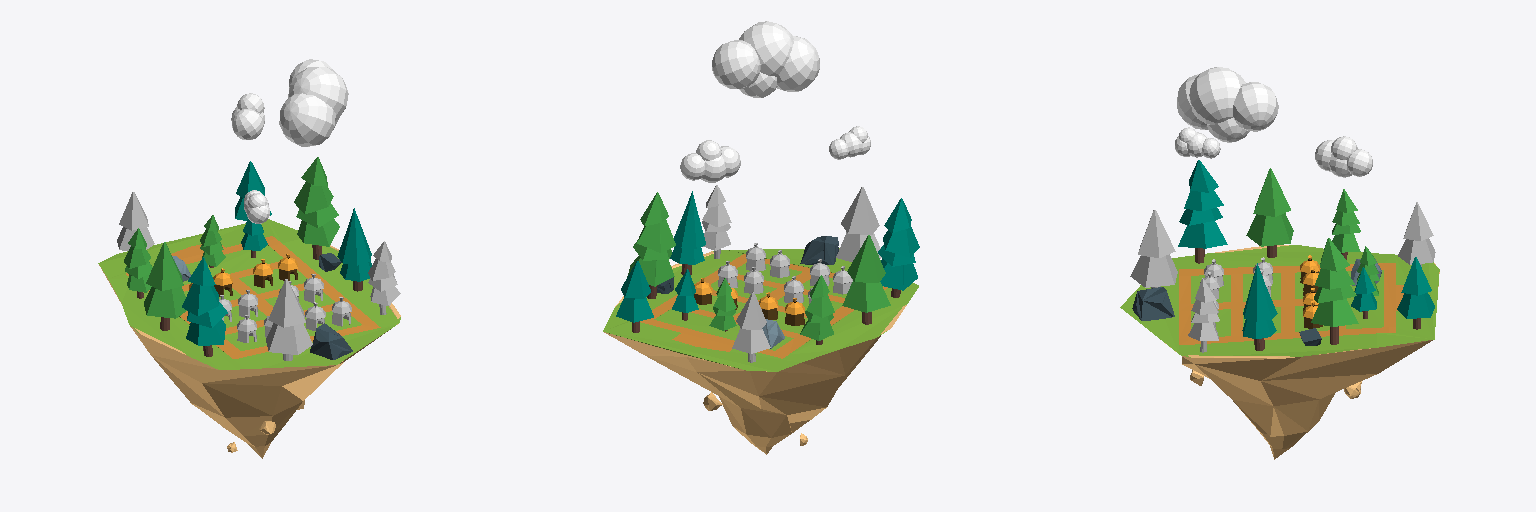
The model's file is floating_island.obj.
3 views of the same model, side by side, from view 1: azimuth 30°, elevation 25°; view 2: azimuth 150°, elevation 25°; view 3: azimuth 270°, elevation 25° (orthographic).
Visible parts, largest first — view 1: group[number redacted], group[number redacted], group[number redacted], group[number redacted], group[number redacted].002, group[number redacted], group[number redacted], group[number redacted].001, group[number redacted], group[number redacted], group[number redacted].001, group[number redacted] (+4 smaller); view 2: group[number redacted], group[number redacted], group[number redacted], group[number redacted], group[number redacted], group[number redacted], group[number redacted].002, group[number redacted], group[number redacted], group[number redacted].001, group[number redacted], group[number redacted].001 (+4 smaller); view 3: group[number redacted], group[number redacted], group[number redacted], group[number redacted], group[number redacted], group[number redacted].002, group[number redacted], group[number redacted], group[number redacted], group[number redacted].001, group[number redacted].001, group[number redacted] (+3 smaller).
Boxes of the visible parts, box(x1,y1,x2,y2) form: group[number redacted]: box(98, 219, 400, 458); group[number redacted]: box(279, 59, 348, 146); group[number redacted]: box(294, 157, 339, 259); group[number redacted]: box(182, 257, 227, 356); group[number redacted].002: box(266, 279, 312, 360); group[number redacted]: box(144, 242, 186, 330); group[number redacted]: box(337, 208, 371, 291); group[number redacted].001: box(368, 241, 400, 314); group[number redacted]: box(124, 228, 152, 298); group[number redacted]: box(231, 93, 264, 139); group[number redacted].001: box(117, 192, 154, 250); group[number redacted]: box(310, 323, 352, 359); group[number redacted]: box(603, 248, 918, 454); group[number redacted]: box(712, 21, 819, 97); group[number redacted]: box(627, 192, 675, 298); group[number redacted]: box(878, 198, 919, 297); group[number redacted]: box(842, 235, 890, 324); group[number redacted]: box(680, 140, 740, 182); group[number redacted].002: box(836, 187, 881, 261); group[number redacted]: box(670, 191, 705, 274); group[number redacted]: box(616, 261, 653, 332); group[number redacted].001: box(732, 292, 770, 362); group[number redacted]: box(800, 275, 834, 344); group[number redacted].001: box(702, 185, 731, 258); group[number redacted]: box(1120, 245, 1439, 459); group[number redacted]: box(1177, 67, 1278, 142); group[number redacted]: box(1178, 160, 1227, 263); group[number redacted]: box(1311, 238, 1358, 344); group[number redacted]: box(1246, 168, 1293, 257); group[number redacted].002: box(1130, 210, 1177, 288); group[number redacted]: box(1315, 136, 1372, 177); group[number redacted]: box(1242, 263, 1277, 350); group[number redacted]: box(1397, 257, 1434, 329); group[number redacted].001: box(1398, 202, 1435, 266); group[number redacted].001: box(1188, 278, 1219, 352); group[number redacted]: box(1332, 189, 1360, 259).
Size of the model in its own units: 0.4308 by 0.6982 by 0.5014.